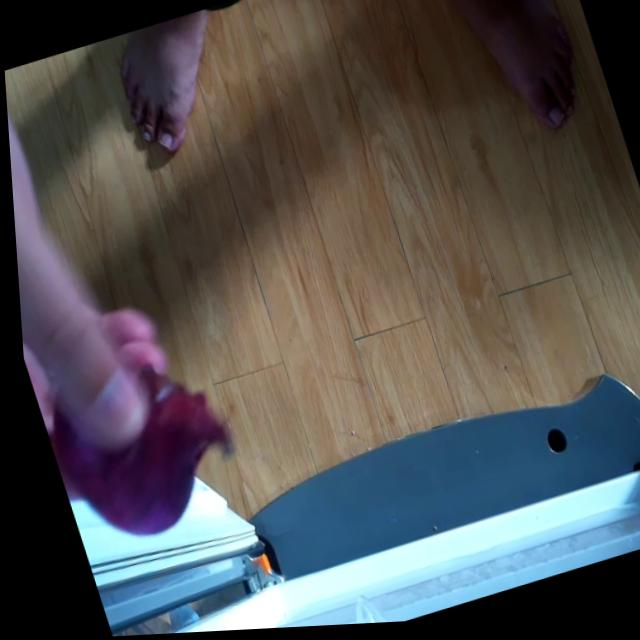onion: (28, 332, 230, 526)
